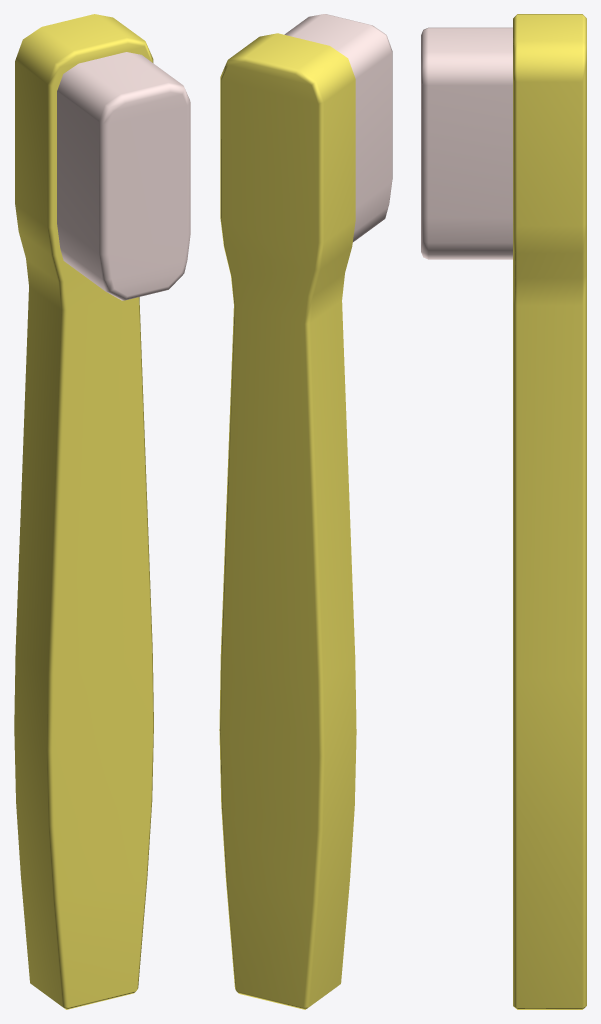
The model's file is Public_20_Toothbrush_1.glb.
The picture shows the model from 3 angles, left to right: view 1: azimuth 30°, elevation 25°; view 2: azimuth 150°, elevation 25°; view 3: azimuth 270°, elevation 25°; orthographic projection. The views are drawn at different scales.
Visible parts, largest first — view 1: Public_20_Toothbrush_1; view 2: Public_20_Toothbrush_1; view 3: Public_20_Toothbrush_1.
Part boxes in pixels (<box>): Public_20_Toothbrush_1: <box>14,14,190,1009</box>; Public_20_Toothbrush_1: <box>219,14,392,1009</box>; Public_20_Toothbrush_1: <box>421,14,586,1009</box>.
Size of the model in its own units: 0.3279 by 2.79 by 0.4346.
1 material, 1 textured.
